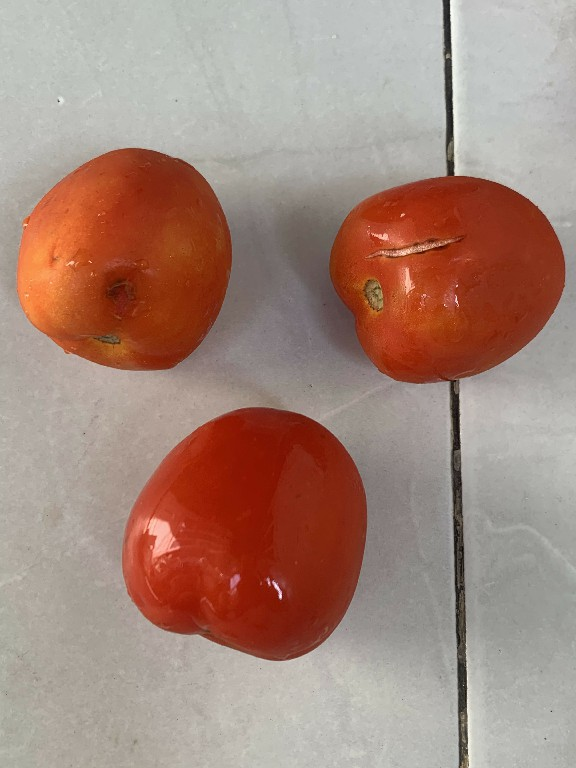NG: (8, 138, 251, 376), (323, 160, 568, 393)
OK: (107, 401, 380, 669)
